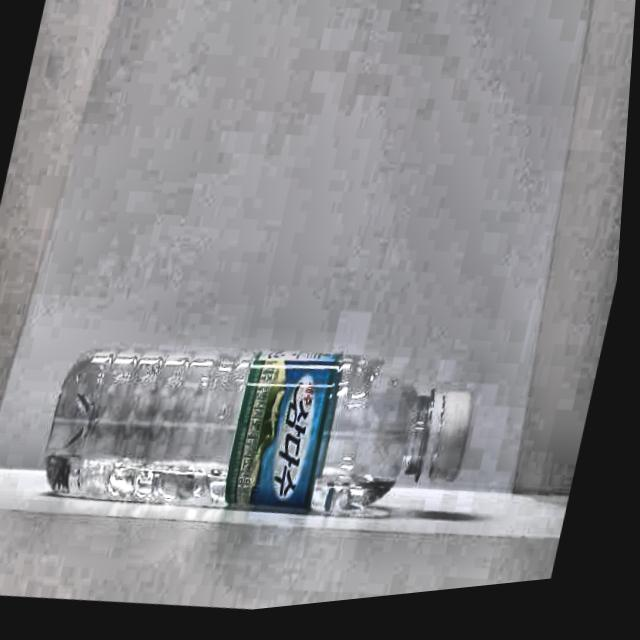Bottles: (26, 291, 516, 599)
